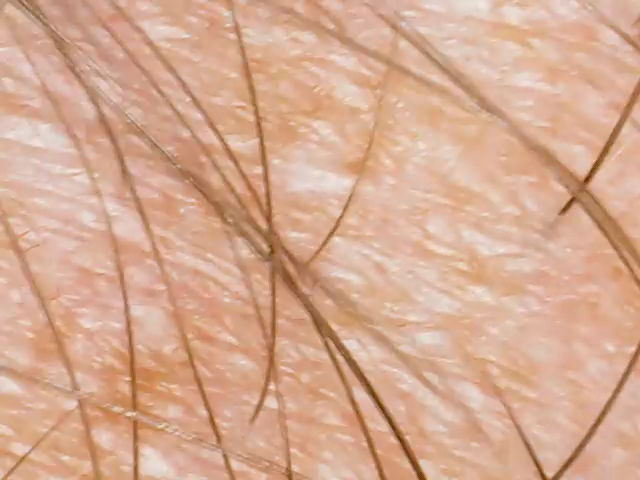folicle: (547, 201, 574, 230), (240, 408, 265, 436), (296, 253, 321, 278)
